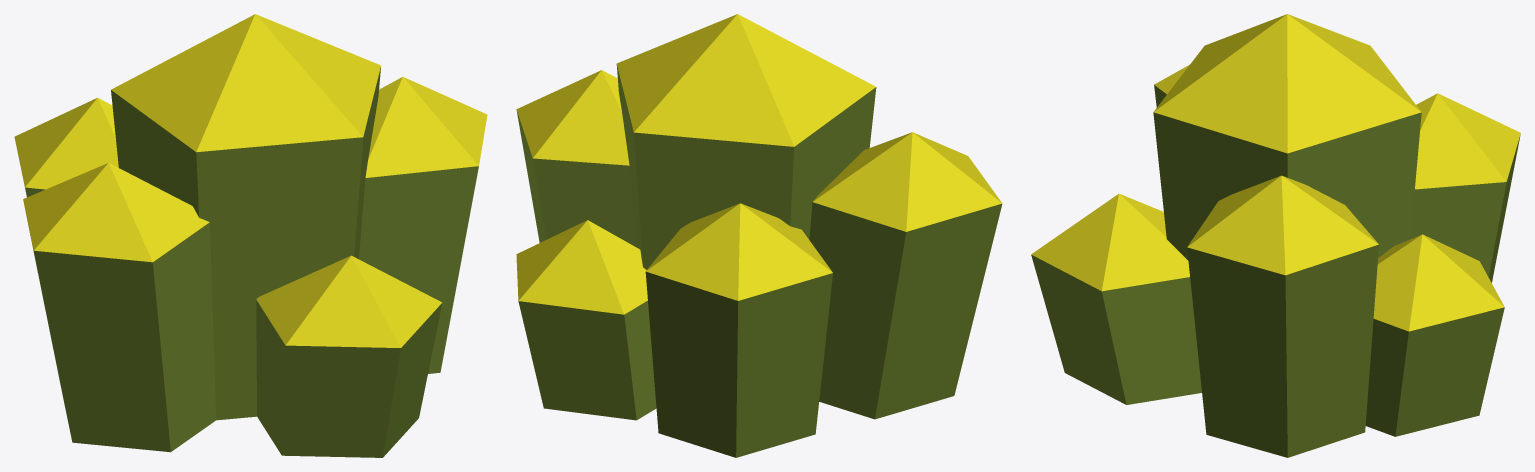
File: TB_D_Env_CactusI_A.FBX
The picture shows the model from 3 angles, left to right: view 1: azimuth 30°, elevation 25°; view 2: azimuth 150°, elevation 25°; view 3: azimuth 270°, elevation 25°; orthographic projection. The views are drawn at different scales.
Parts seen in each view (by area): view 1: TB_D_Env_CactusI_A; view 2: TB_D_Env_CactusI_A; view 3: TB_D_Env_CactusI_A.
Part boxes in pixels (x1,y1,x2,y2): TB_D_Env_CactusI_A: [14, 14, 487, 457]; TB_D_Env_CactusI_A: [516, 14, 1002, 457]; TB_D_Env_CactusI_A: [1031, 14, 1520, 457].
Bounding box in the file's own units: 0.4077 × 0.2949 × 0.3711.
